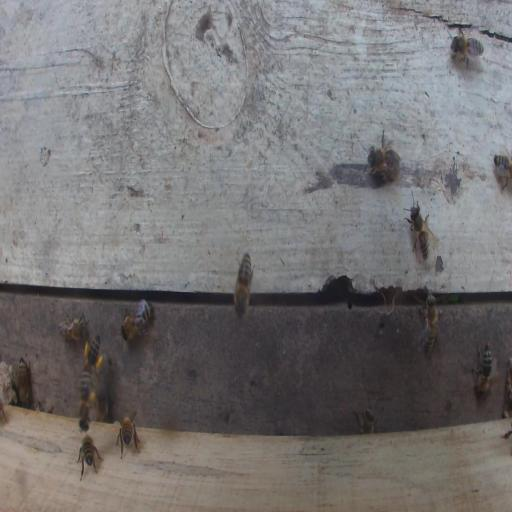bee: (405, 189, 437, 262), (366, 129, 399, 181), (417, 286, 439, 355), (120, 299, 153, 343), (234, 251, 253, 320), (77, 365, 96, 432), (115, 409, 140, 459), (471, 339, 492, 397), (76, 434, 102, 480), (450, 33, 484, 67), (56, 312, 87, 342), (493, 149, 512, 193), (354, 398, 377, 434), (83, 334, 104, 371), (16, 356, 29, 406), (96, 395, 109, 422)
